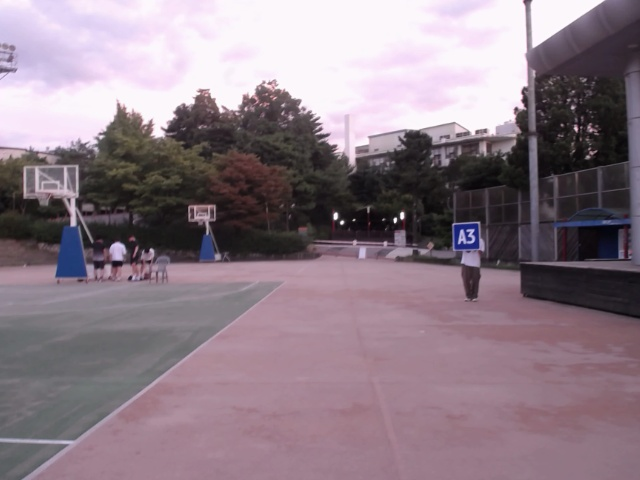delivery_a3: (452, 222, 481, 251)
